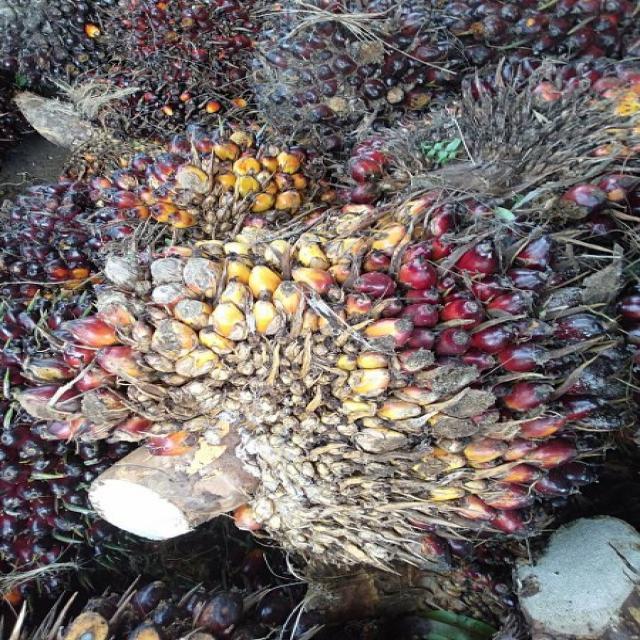fraksi 1: (43, 204, 613, 563)
